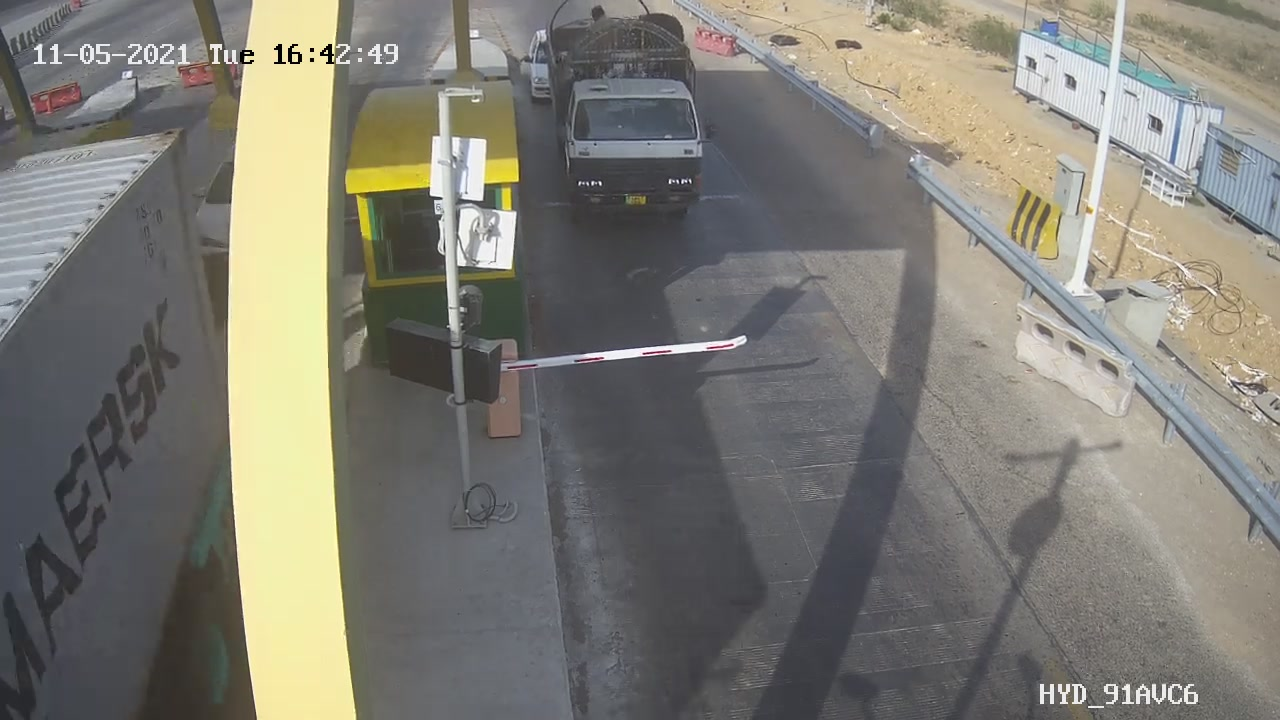F5: (526, 3, 738, 236)
